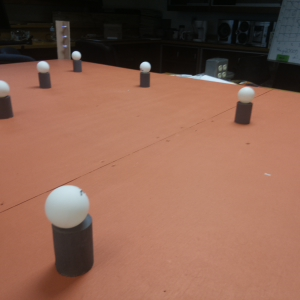obstacle: (42, 183, 95, 277), (236, 84, 255, 128), (1, 80, 13, 120), (136, 60, 153, 88), (35, 60, 51, 88), (73, 51, 83, 72)
